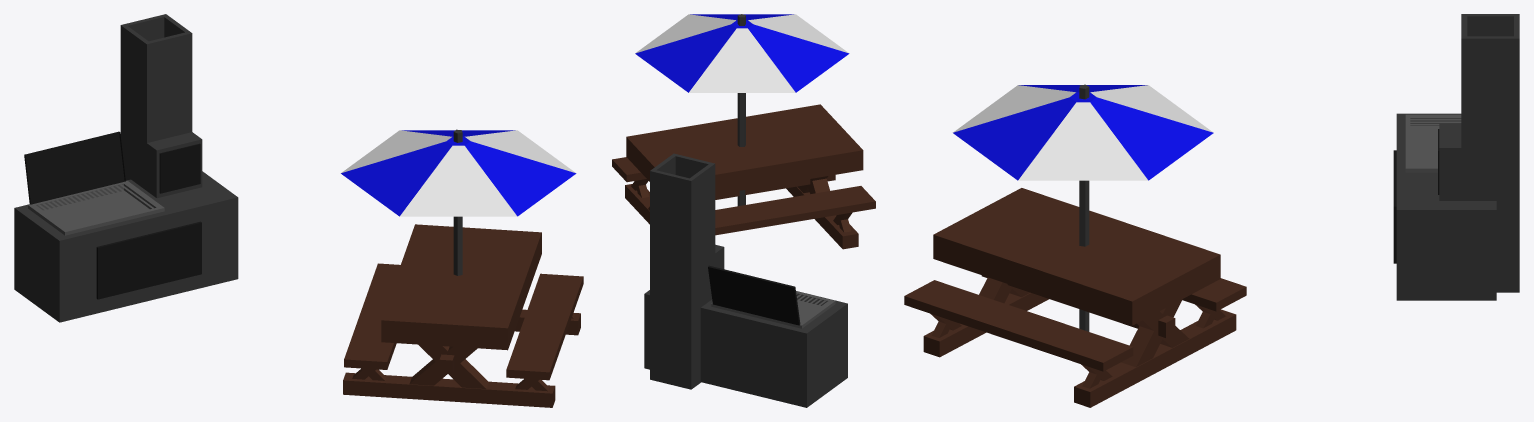
The model's file is Fireplace3.dae.
3 renders of one model, left to right at view 1: azimuth 30°, elevation 25°; view 2: azimuth 150°, elevation 25°; view 3: azimuth 270°, elevation 25°, orthographic. The views are drawn at different scales.
Visible parts, largest first — view 1: Fireplace3; view 2: Fireplace3; view 3: Fireplace3.
Boxes of the visible parts, <box> form: Fireplace3: <box>14,14,583,407</box>; Fireplace3: <box>612,14,875,407</box>; Fireplace3: <box>904,14,1519,407</box>.
Size of the model in its own units: 10.02 by 12.31 by 5.7.
